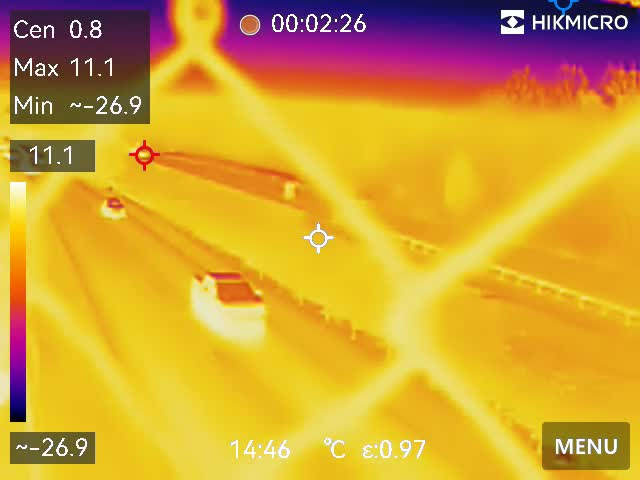lightTruck: (187, 259, 270, 327)
